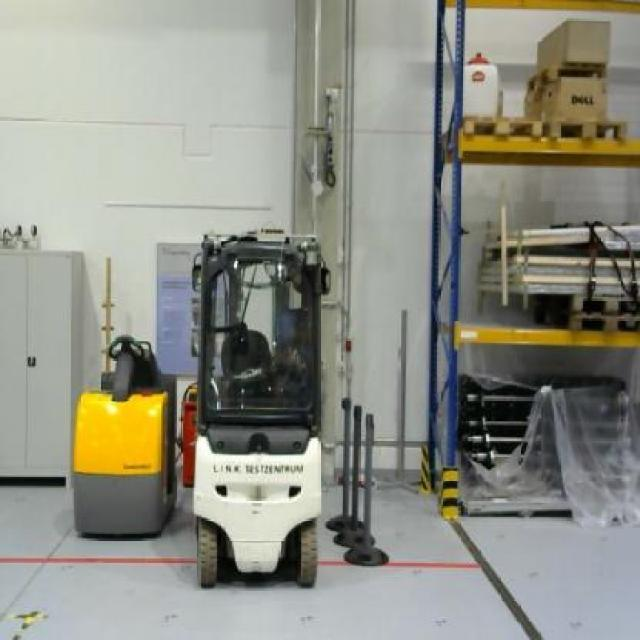box: (531, 18, 611, 66), (523, 78, 606, 120)
